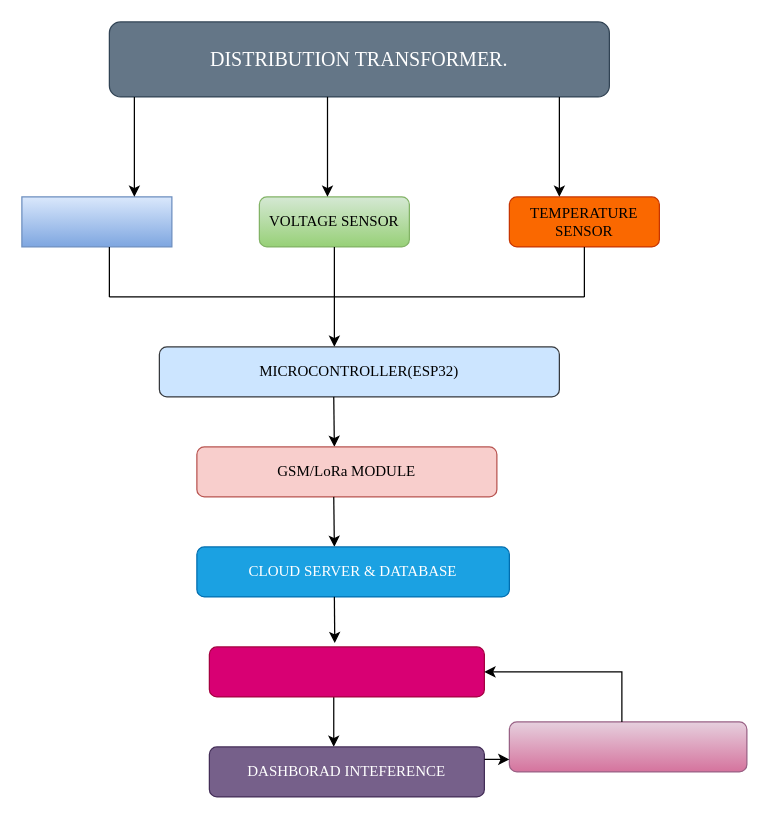
This 769x819 diagram has some shape labels left out. Here are the shapes that lost their labels. From the top down, the box of each, then its label:
(21, 196, 172, 247): CURRENT SENSOR
(208, 646, 484, 697): ANALYTICS ENGINE
(508, 721, 747, 772): ENGINEER ALERTS & REPORT
